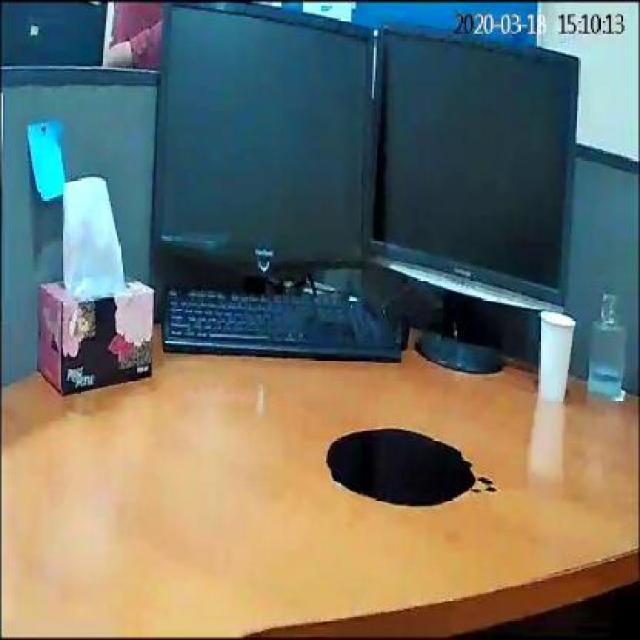spill: (324, 423, 476, 505)
